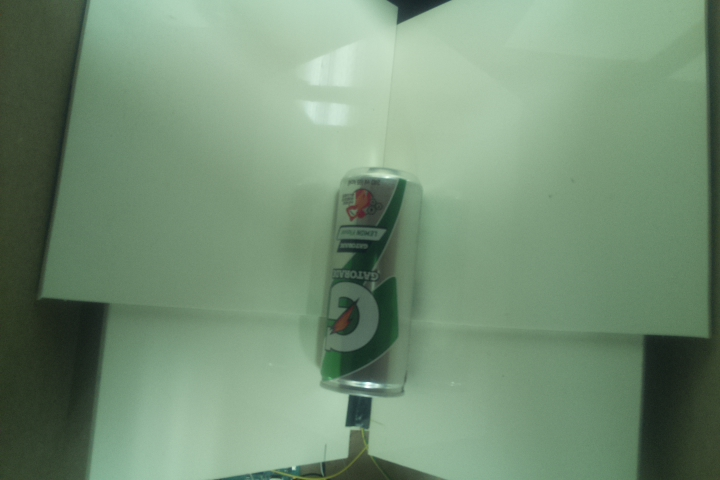can: (316, 165, 427, 397)
